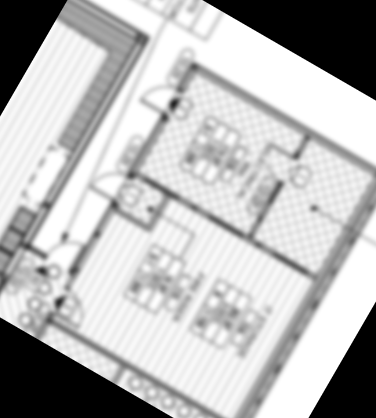door: (246, 135, 302, 192), (134, 71, 183, 121), (85, 161, 131, 208), (51, 287, 96, 332), (46, 232, 88, 274)
